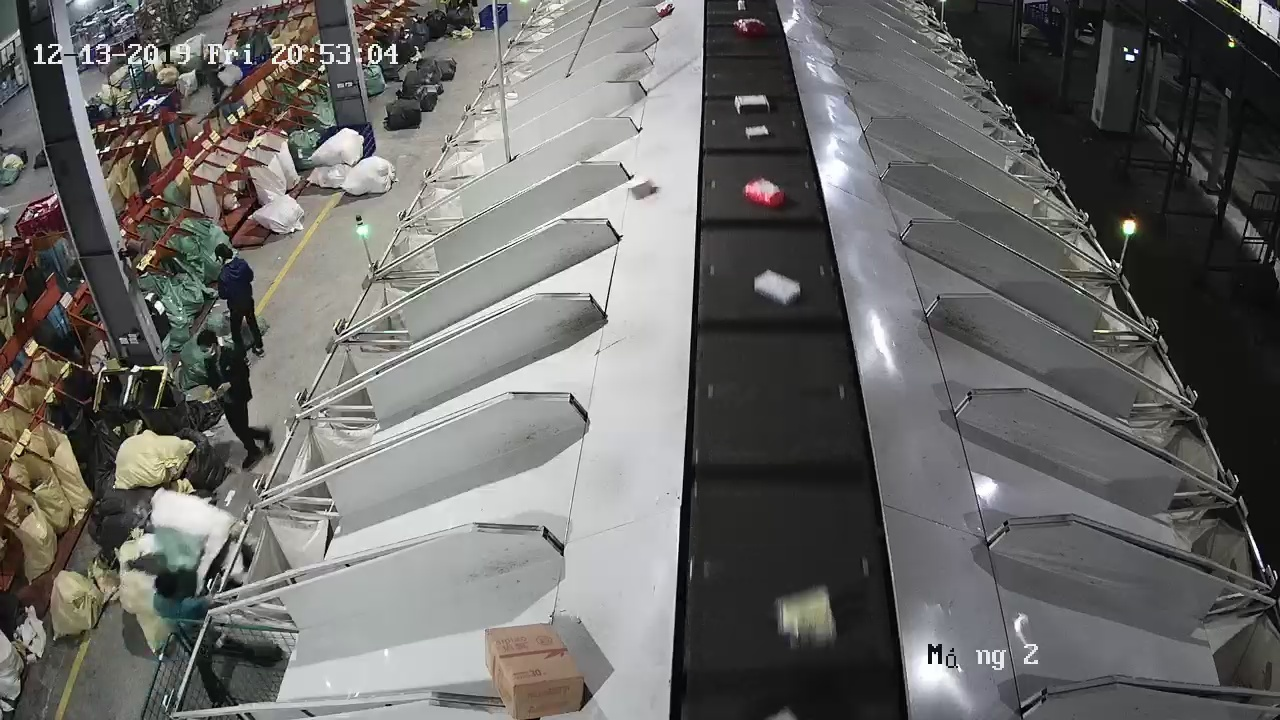parcel: (628, 176, 657, 200)
